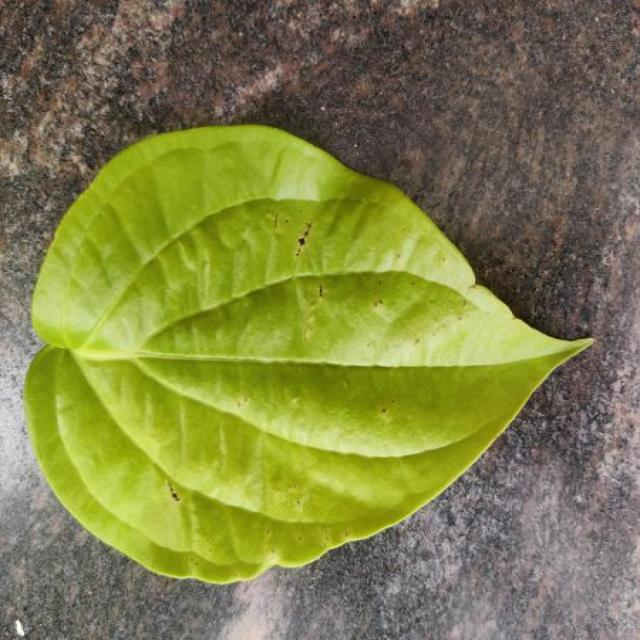betel: (25, 125, 590, 582)
